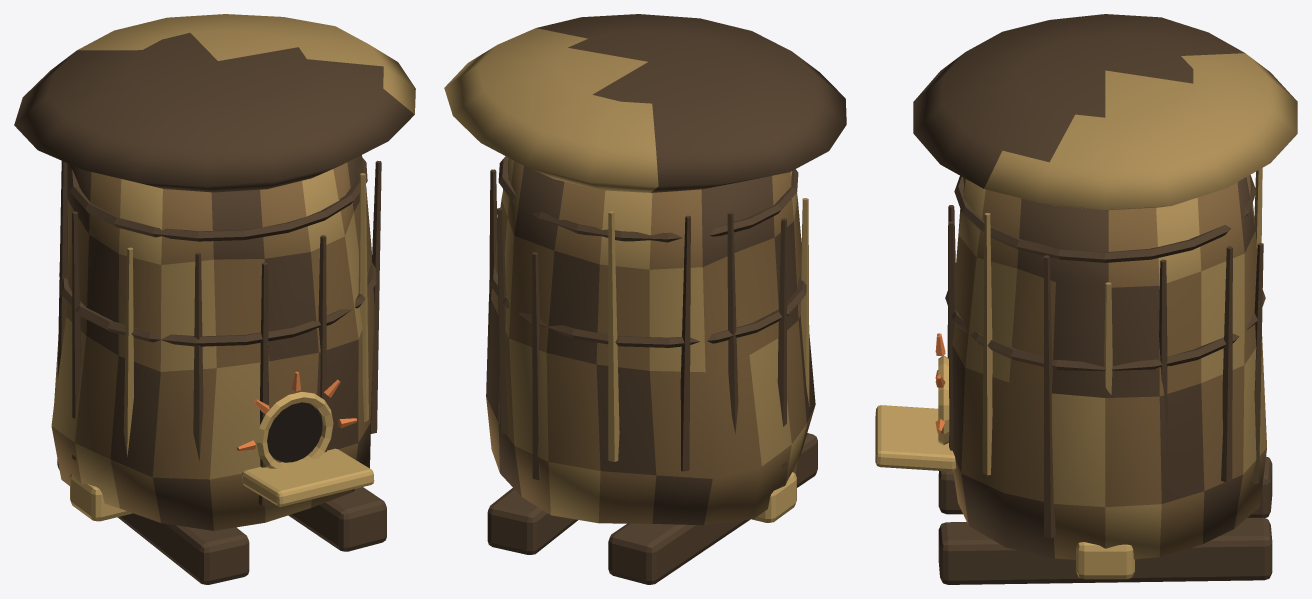
Rendered from beehive.glb.
3 views of the same model, side by side, from view 1: azimuth 30°, elevation 25°; view 2: azimuth 150°, elevation 25°; view 3: azimuth 270°, elevation 25° (orthographic). The views are drawn at different scales.
Visible parts, largest first — view 1: beehive; view 2: beehive; view 3: beehive.
Boxes of the visible parts, x1,y1,x2,y2 form: beehive: (14, 14, 415, 584); beehive: (444, 14, 846, 584); beehive: (875, 14, 1297, 584).
Size of the model in its own units: 1.34 by 1.59 by 1.29.
